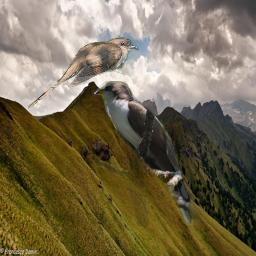Cuckoo: (94, 81, 204, 226), (28, 37, 139, 109)
